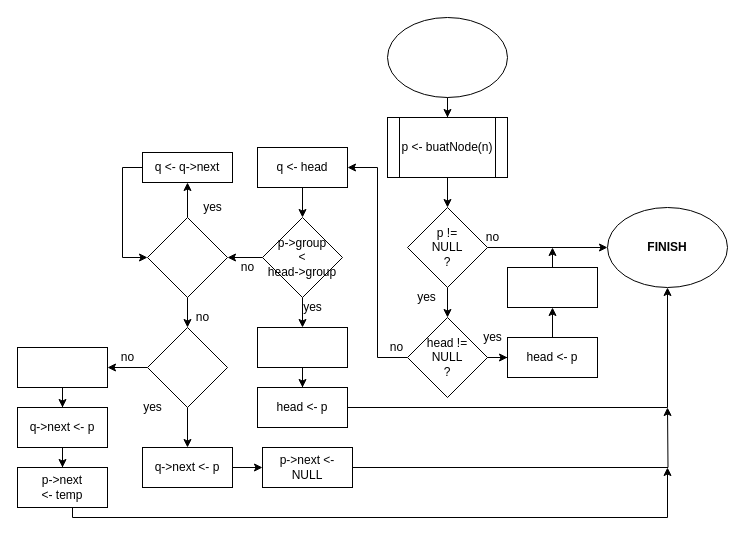
Some shapes in this 745 by 543 pixel diagram are drawn without their labels. Each missing label, with the box of its shape:
head->next <- NULL: (506, 266, 598, 308)
p->next <- head: (256, 326, 348, 368)
q-> next == NULL: (146, 326, 228, 408)
q->next != NULL && ((q->next-> group)<= (p->group)): (146, 216, 228, 298)
START: (386, 16, 508, 98)
temp <- q->next: (16, 346, 108, 388)
